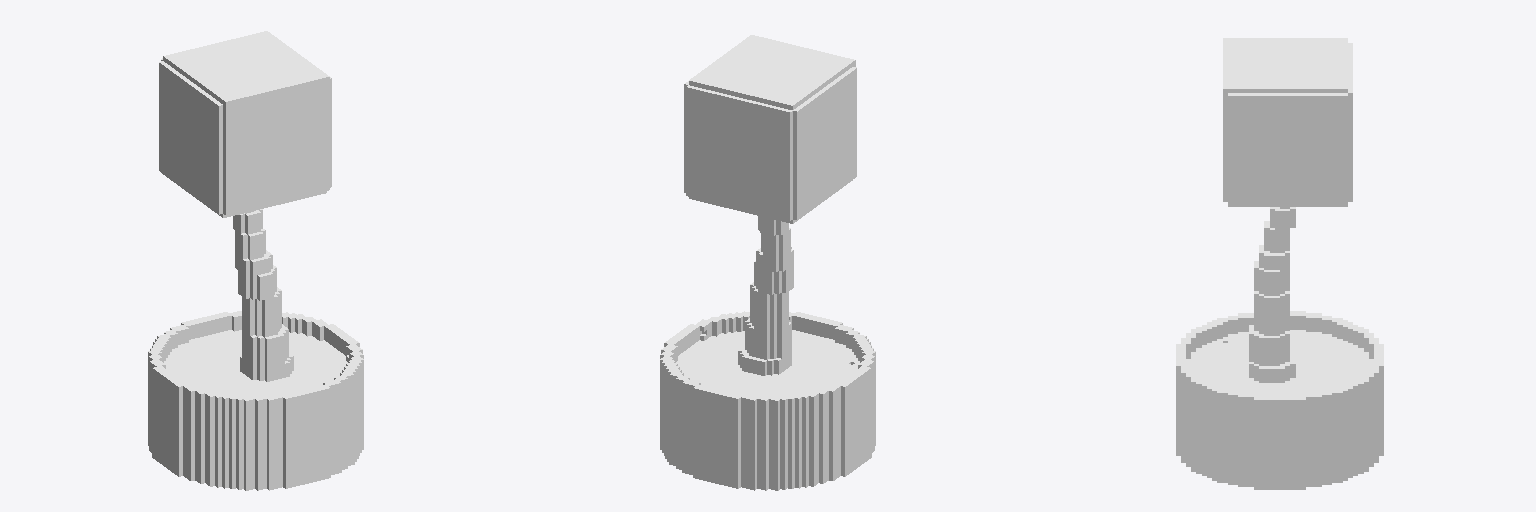
The model's file is large-planter.obj.
3 renders of one model, left to right at view 1: azimuth 30°, elevation 25°; view 2: azimuth 150°, elevation 25°; view 3: azimuth 270°, elevation 25°, orthographic.
Visible parts, largest first — view 1: object 1; view 2: object 1; view 3: object 1.
Part boxes in pixels (bbox=[...]): object 1: bbox=[148, 31, 363, 490]; object 1: bbox=[660, 35, 875, 490]; object 1: bbox=[1176, 38, 1383, 489].
Size of the model in its own units: 4 by 8 by 4.